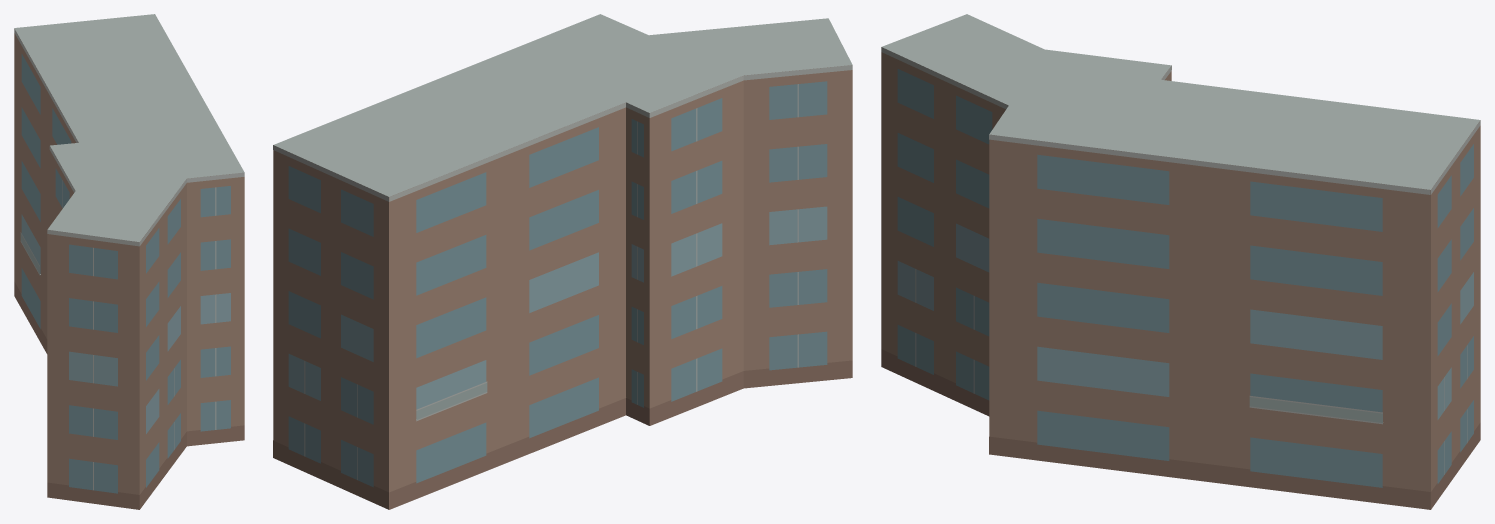
The model's file is survey-upis-32972755.glb.
3 views of the same model, side by side, from view 1: azimuth 30°, elevation 25°; view 2: azimuth 150°, elevation 25°; view 3: azimuth 270°, elevation 25° (orthographic). The views are drawn at different scales.
Parts seen in each view (by area): view 1: survey-upis-32972755.tmp; view 2: survey-upis-32972755.tmp; view 3: survey-upis-32972755.tmp.
Boxes of the visible parts, <box> form: survey-upis-32972755.tmp: <box>14,14,244,509</box>; survey-upis-32972755.tmp: <box>273,14,852,509</box>; survey-upis-32972755.tmp: <box>881,14,1480,509</box>.
Bounding box in the file's own units: 18.05 × 15.3 × 25.98.
